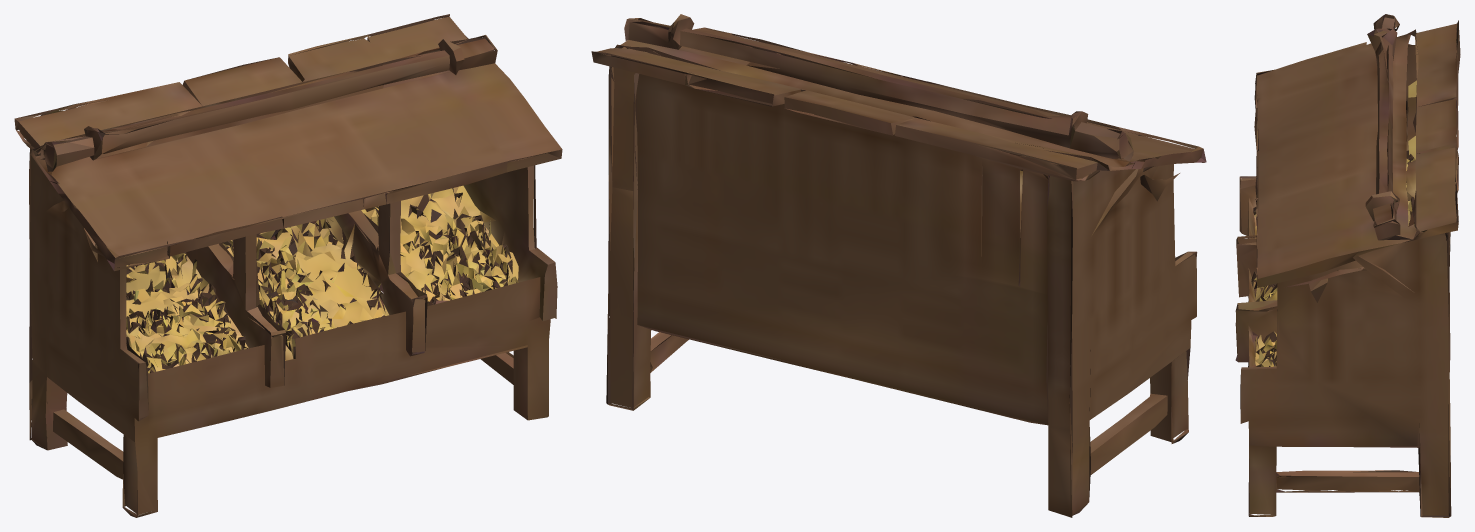
Rendered from NestingBoxes.glb.
The picture shows the model from 3 angles, left to right: view 1: azimuth 30°, elevation 25°; view 2: azimuth 150°, elevation 25°; view 3: azimuth 270°, elevation 25°; orthographic projection. The views are drawn at different scales.
Visible parts, largest first — view 1: NestingBoxes; view 2: NestingBoxes; view 3: NestingBoxes.
Boxes of the visible parts, x1=… form: NestingBoxes: x1=14, y1=14, x2=562, y2=517; NestingBoxes: x1=591, y1=14, x2=1206, y2=517; NestingBoxes: x1=1235, y1=14, x2=1460, y2=517.
Bounding box in the file's own units: 2.03 × 1.43 × 0.9274.
1 material, 1 textured.
